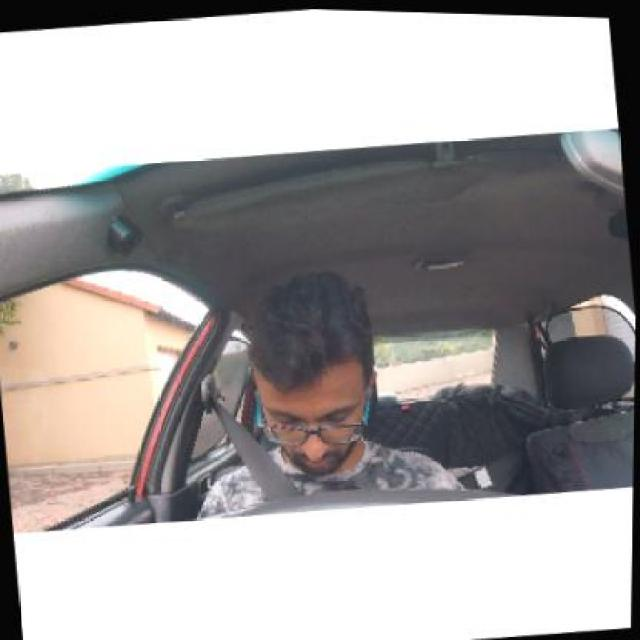drowsy: (249, 277, 375, 474)
